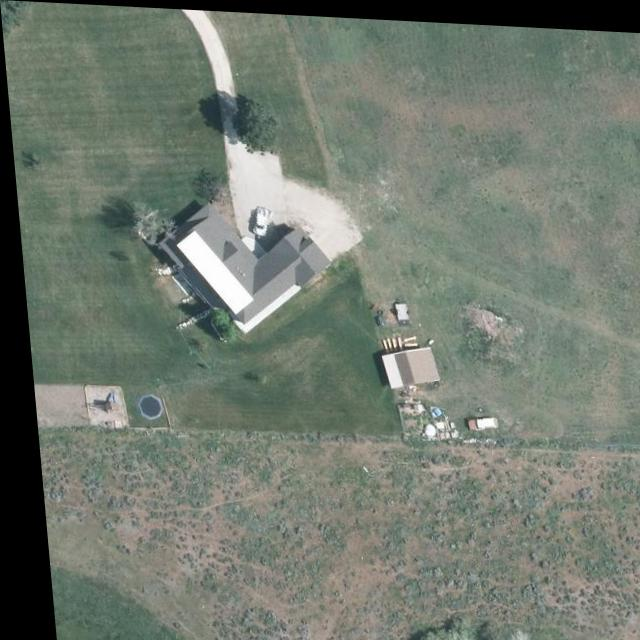vehicle: (244, 203, 273, 235), (460, 411, 492, 426)
